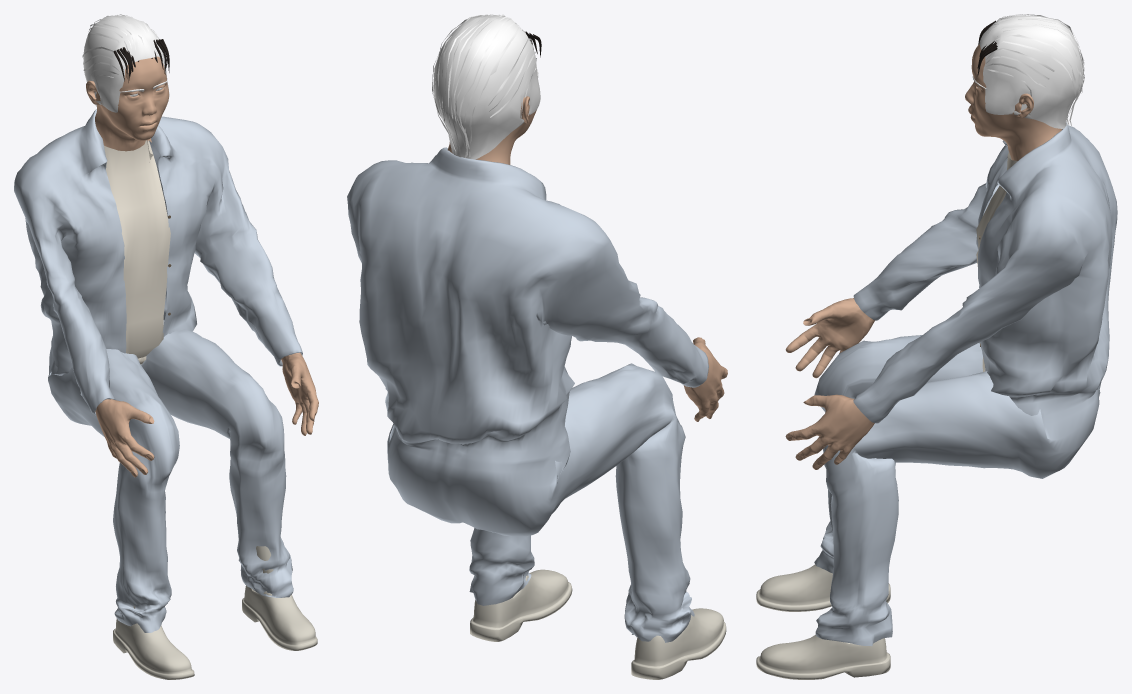
File: young-man-seated.glb
3 renders of one model, left to right at view 1: azimuth 30°, elevation 25°; view 2: azimuth 150°, elevation 25°; view 3: azimuth 270°, elevation 25°, orthographic. The views are drawn at different scales.
Parts seen in each view (by area): view 1: CC0 fitted clothes/male_casualsuit01/male_casualsuit01, reference fitted ivory crew-neck centre, smooth human anatomy with per-corner UV seams, CC0 fitted clothes/shoes04/shoes04, CC0 fitted hair/short04/short04, reference fitted hair fringe strands; view 2: CC0 fitted clothes/male_casualsuit01/male_casualsuit01, CC0 fitted hair/short04/short04, CC0 fitted clothes/shoes04/shoes04, smooth human anatomy with per-corner UV seams; view 3: CC0 fitted clothes/male_casualsuit01/male_casualsuit01, smooth human anatomy with per-corner UV seams, CC0 fitted hair/short04/short04, CC0 fitted clothes/shoes04/shoes04, reference fitted ivory crew-neck centre.
Boxes of the visible parts, left/top/right/bottom form: CC0 fitted clothes/male_casualsuit01/male_casualsuit01: left=14, top=109, right=302, bottom=632; reference fitted ivory crew-neck centre: left=104, top=140, right=170, bottom=358; smooth human anatomy with per-corner UV seams: left=86, top=56, right=318, bottom=477; CC0 fitted clothes/shoes04/shoes04: left=113, top=546, right=317, bottom=679; CC0 fitted hair/short04/short04: left=82, top=14, right=169, bottom=112; reference fitted hair fringe strands: left=113, top=39, right=169, bottom=82; CC0 fitted clothes/male_casualsuit01/male_casualsuit01: left=347, top=147, right=708, bottom=642; CC0 fitted hair/short04/short04: left=432, top=14, right=540, bottom=159; CC0 fitted clothes/shoes04/shoes04: left=470, top=569, right=726, bottom=679; smooth human anatomy with per-corner UV seams: left=447, top=96, right=727, bottom=421; CC0 fitted clothes/male_casualsuit01/male_casualsuit01: left=814, top=122, right=1117, bottom=646; smooth human anatomy with per-corner UV seams: left=785, top=44, right=1061, bottom=469; CC0 fitted hair/short04/short04: left=979, top=14, right=1084, bottom=128; CC0 fitted clothes/shoes04/shoes04: left=756, top=564, right=890, bottom=679; reference fitted ivory crew-neck centre: left=976, top=152, right=1017, bottom=371.
Bounding box in the file's own units: 0.5539 × 1.39 × 0.7343.
